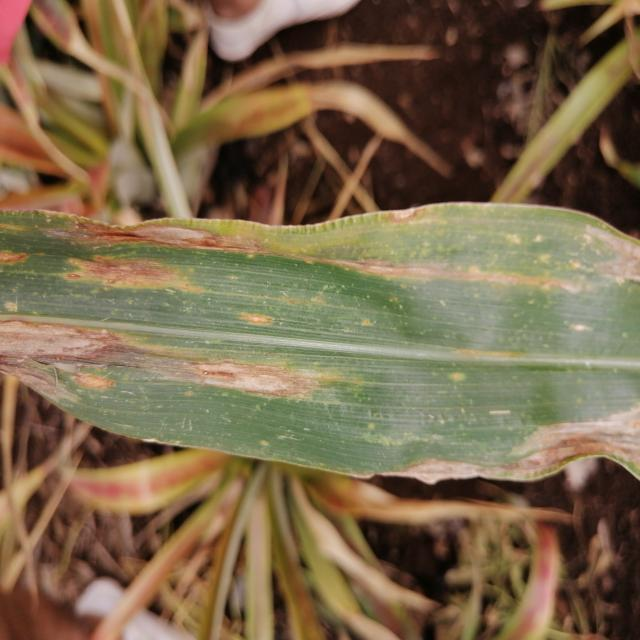Corn_Leaf_Blight: (0, 204, 640, 490)
